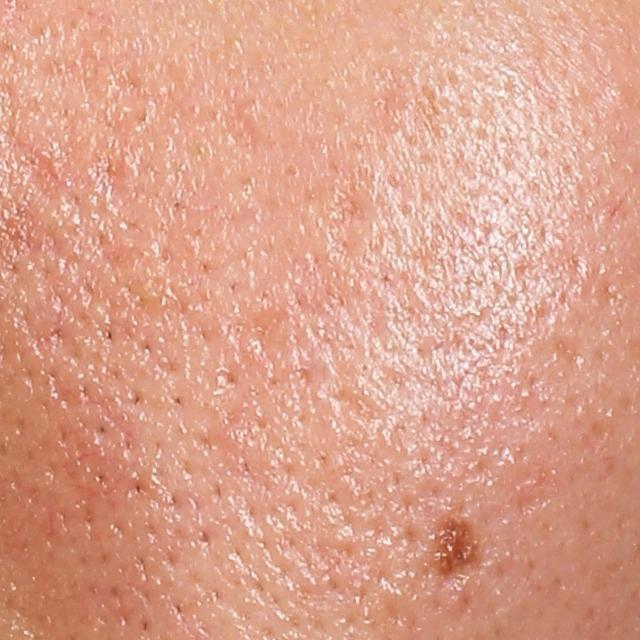atrophic_scar: (329, 176, 380, 264), (550, 338, 586, 371)
comedo: (602, 82, 631, 108)
nevus: (426, 504, 485, 586)
